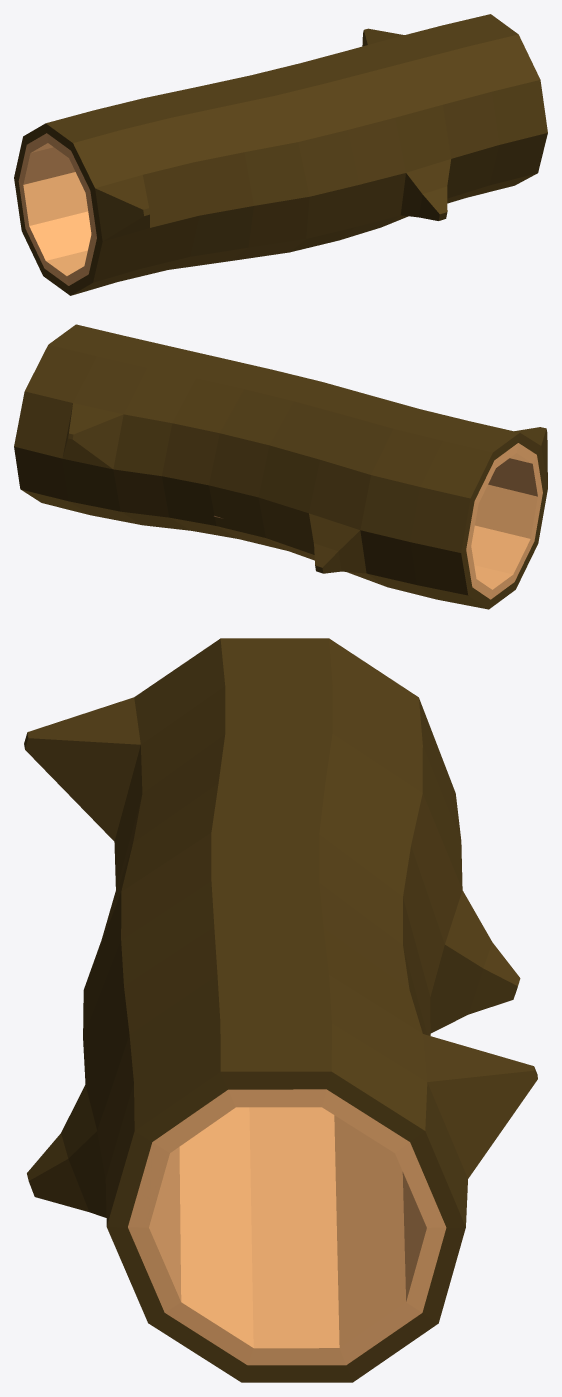
The model's file is tronco1.fbx.
3 views of the same model, one above another, from view 1: azimuth 30°, elevation 25°; view 2: azimuth 150°, elevation 25°; view 3: azimuth 270°, elevation 25° (orthographic). The views are drawn at different scales.
Visible parts, largest first — view 1: Cylinder.001; view 2: Cylinder.001; view 3: Cylinder.001.
Part boxes in pixels (x1,y1,x2,y2): Cylinder.001: [14, 14, 547, 295]; Cylinder.001: [14, 324, 547, 609]; Cylinder.001: [24, 638, 537, 1382].
Size of the model in its own units: 154 by 51.19 by 76.6.
